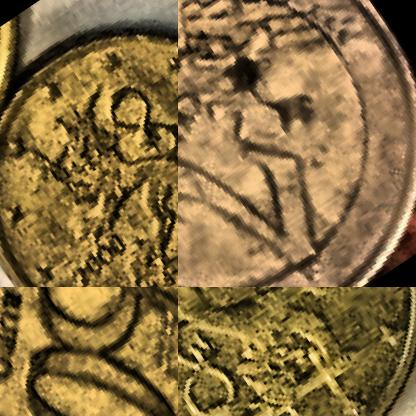coin: (178, 0, 415, 286), (0, 0, 177, 286), (178, 287, 415, 415), (0, 287, 177, 415)
